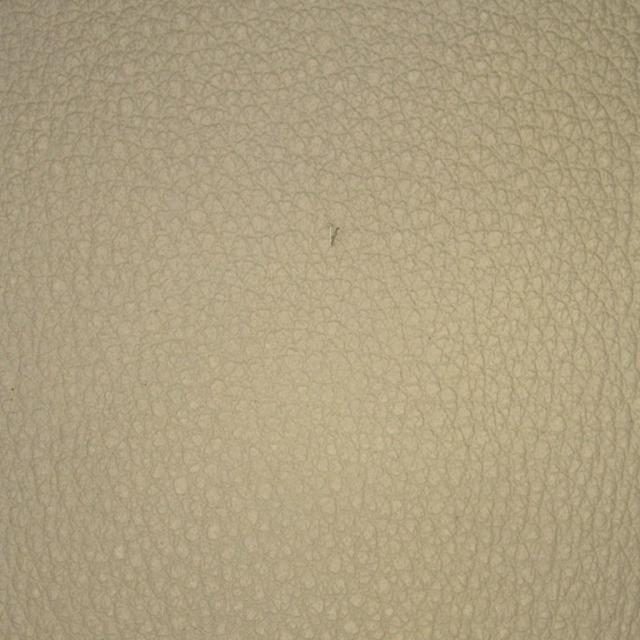Scratch: (238, 175, 432, 300)
